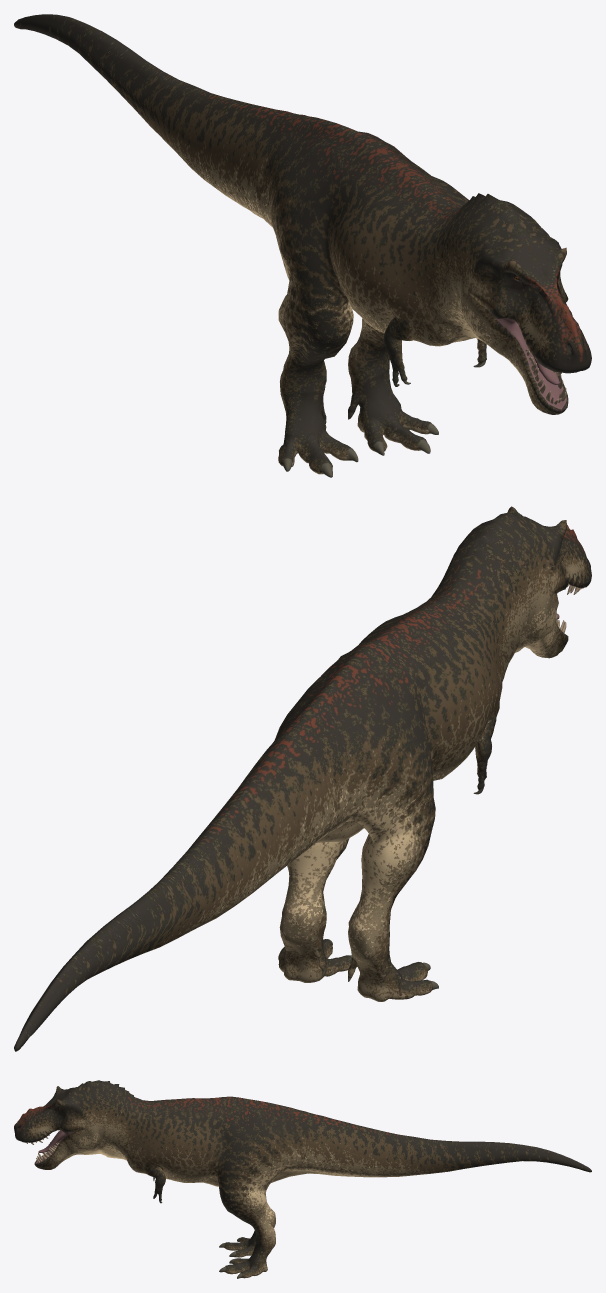
Rendered from Tiranosaurio_Rex.glb.
The picture shows the model from 3 angles, top to bottom: view 1: azimuth 30°, elevation 25°; view 2: azimuth 150°, elevation 25°; view 3: azimuth 270°, elevation 25°; orthographic projection. The views are drawn at different scales.
Visible parts, largest first — view 1: DW_Tiranosaurio_Rex_Adulto_Mayor_mesh; view 2: DW_Tiranosaurio_Rex_Adulto_Mayor_mesh; view 3: DW_Tiranosaurio_Rex_Adulto_Mayor_mesh.
Boxes of the visible parts, x1,y1,x2,y2 form: DW_Tiranosaurio_Rex_Adulto_Mayor_mesh: (14,14,591,477); DW_Tiranosaurio_Rex_Adulto_Mayor_mesh: (14,506,591,1051); DW_Tiranosaurio_Rex_Adulto_Mayor_mesh: (14,1080,591,1278).
Bounding box in the file's own units: 0.1559 × 0.3452 × 1.
2 materials, 2 textured.
